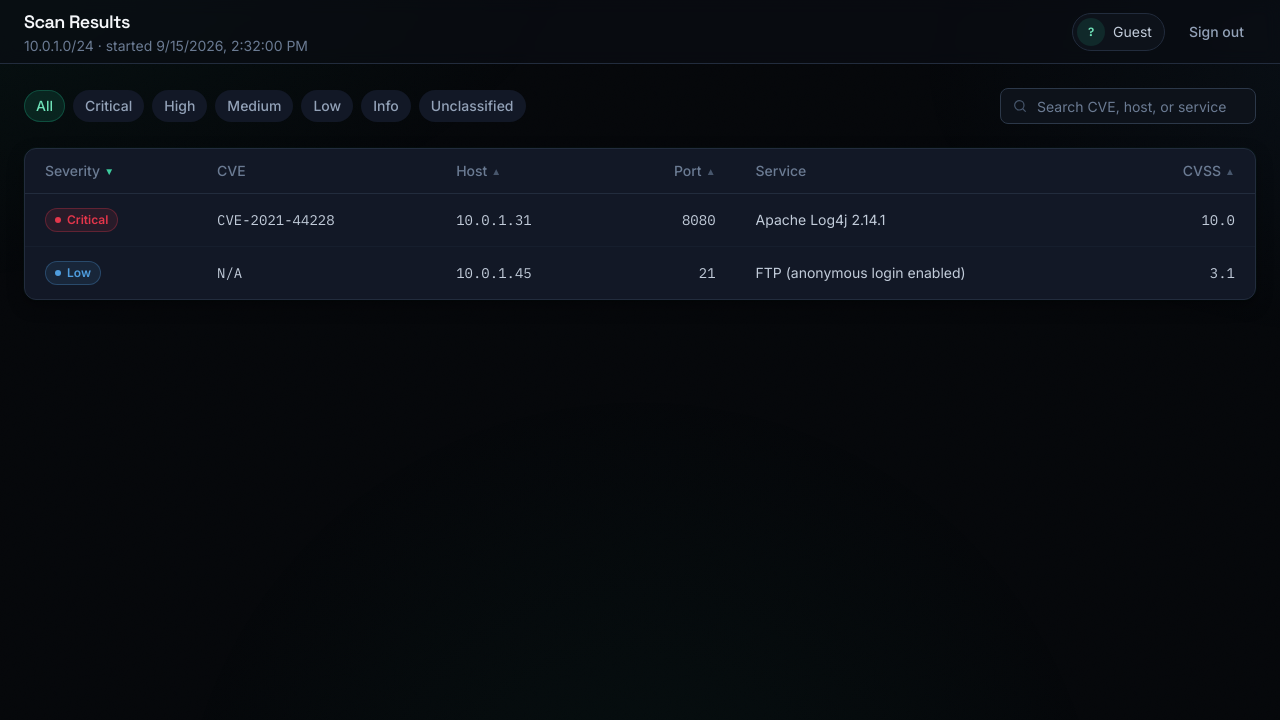
ScanResults › reveals CVSS, affected service, and description at Level 2
Click the text "CVE-2021-44228" at [276, 220], box [217,211,335,229]
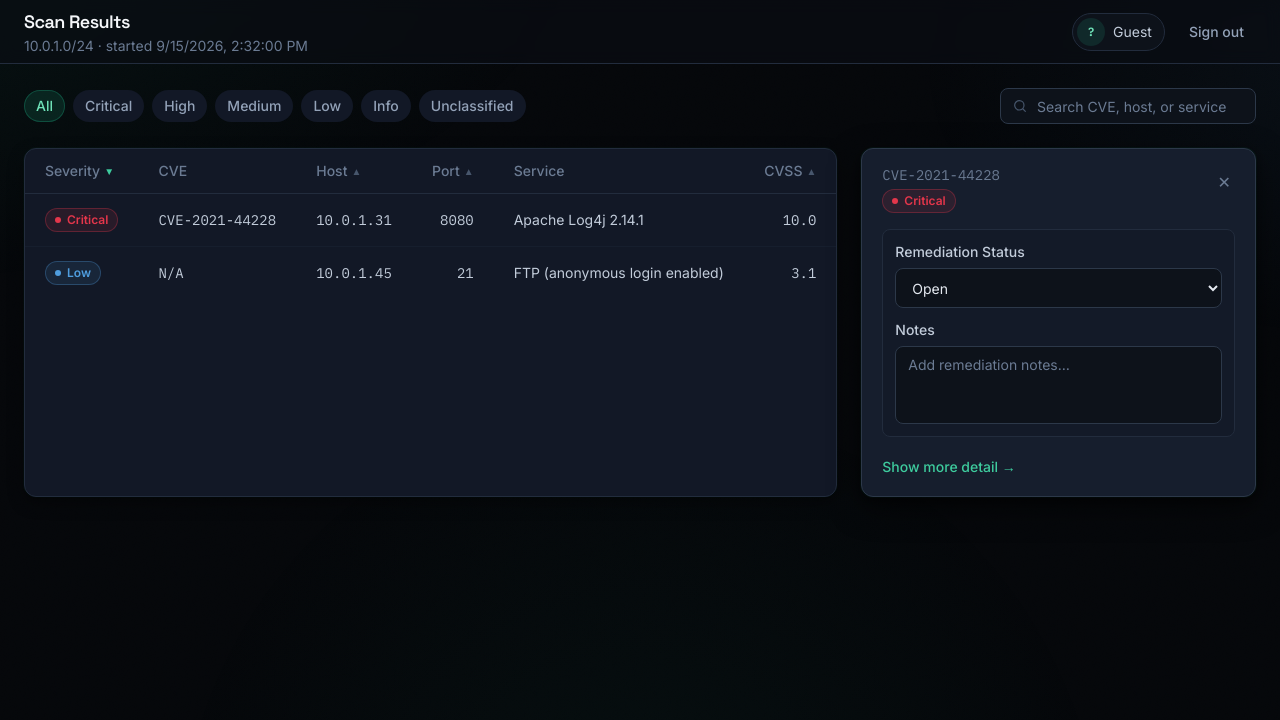
Click the button "Show more detail →" at [949, 467], box [882,457,1016,477]
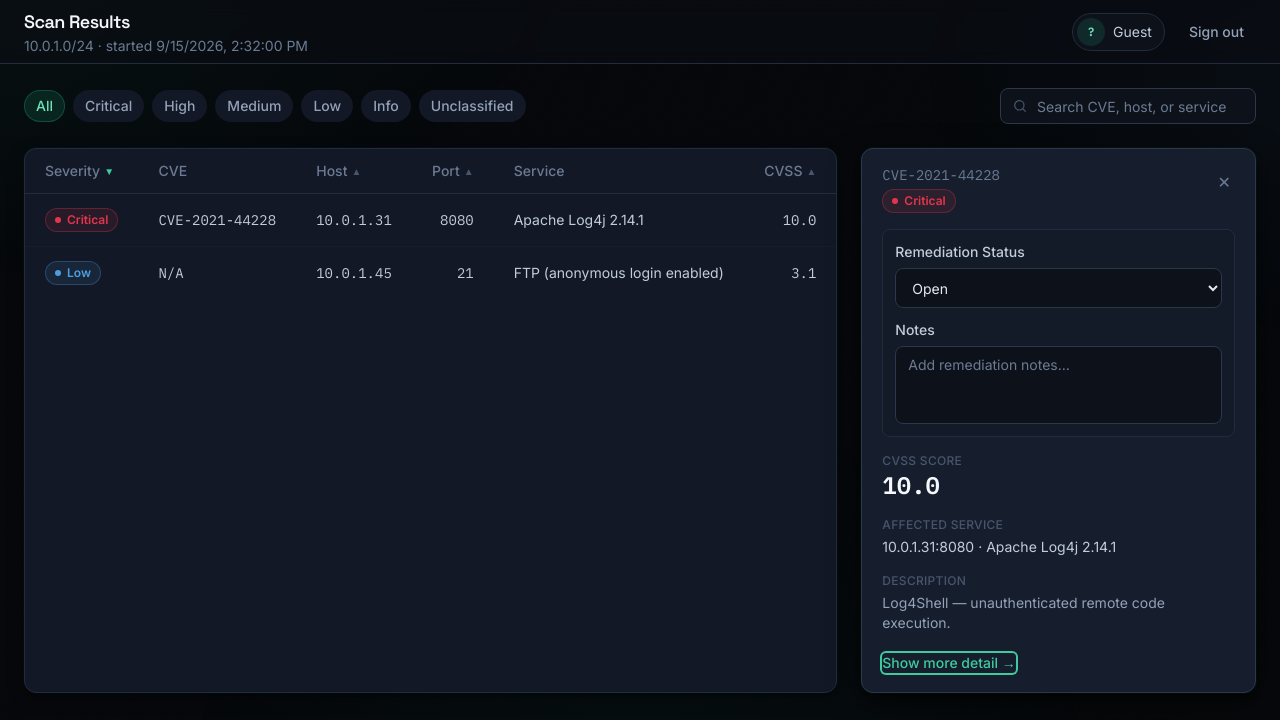
Check: the text "10.0" below "CVSS Score" is shown, box [882,469,940,501]
Check: the text "Log4Shell — unauthenticated remote code execution." is shown, box [882,594,1165,631]
